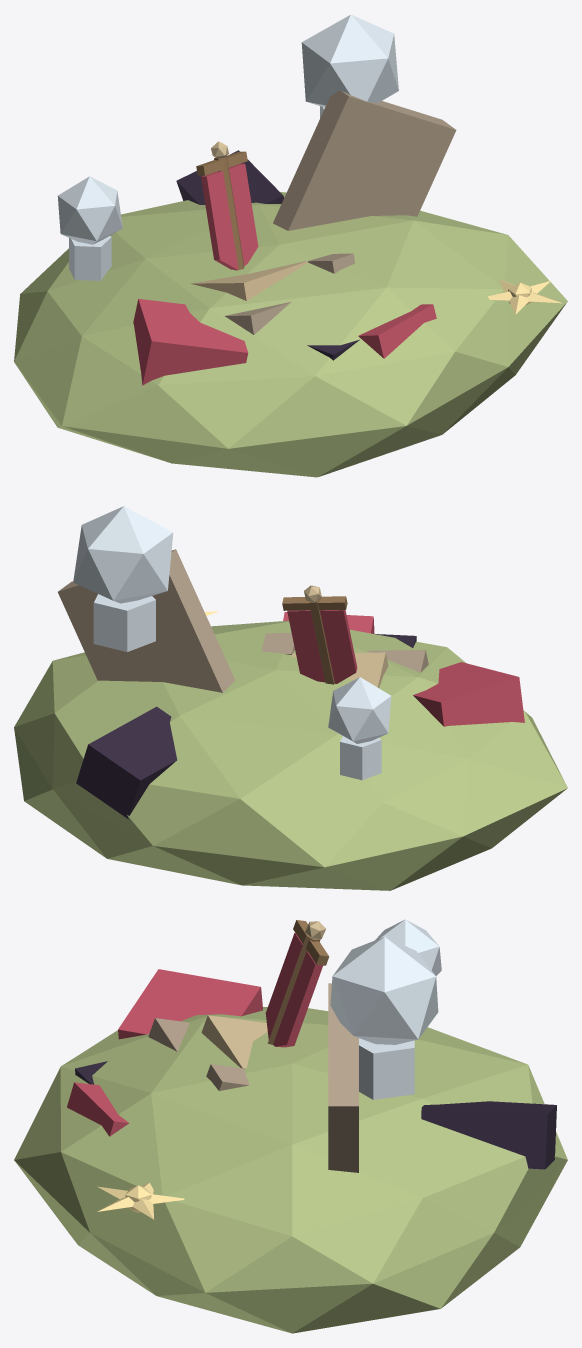
File: medieval-ruin.glb
The picture shows the model from 3 angles, top to bottom: view 1: azimuth 30°, elevation 25°; view 2: azimuth 150°, elevation 25°; view 3: azimuth 270°, elevation 25°; orthographic projection. The views are drawn at different scales.
Visible parts, largest first — view 1: medieval-ruin; view 2: medieval-ruin; view 3: medieval-ruin.
Boxes of the visible parts, x1,y1,x2,y2 form: medieval-ruin: (14, 14, 567, 477); medieval-ruin: (14, 506, 567, 890); medieval-ruin: (14, 919, 567, 1333).
Size of the model in its own units: 1.25 by 0.7194 by 1.08.
